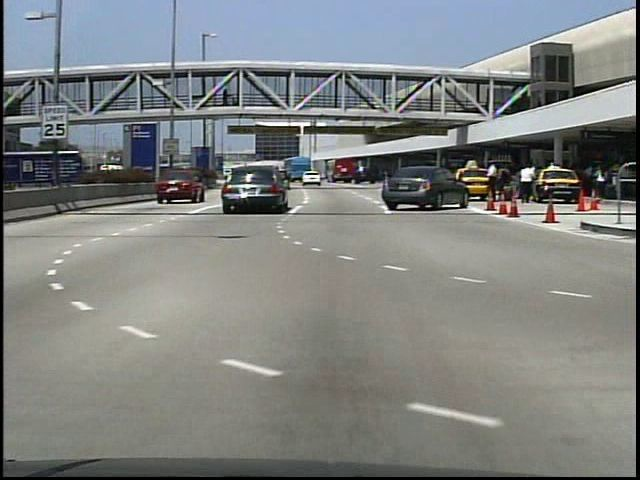person: (516, 159, 538, 204), (588, 164, 608, 202), (484, 162, 502, 204), (523, 161, 538, 202), (220, 89, 230, 110)
